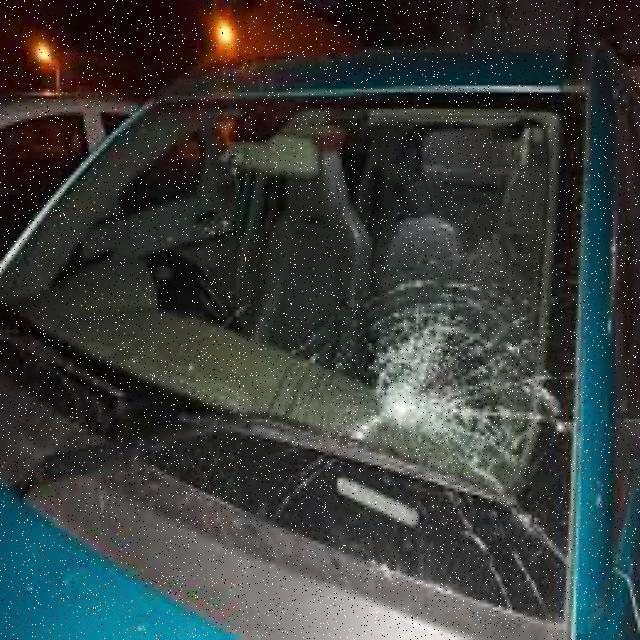Front-Windscreen-Damage: (7, 99, 596, 637)
